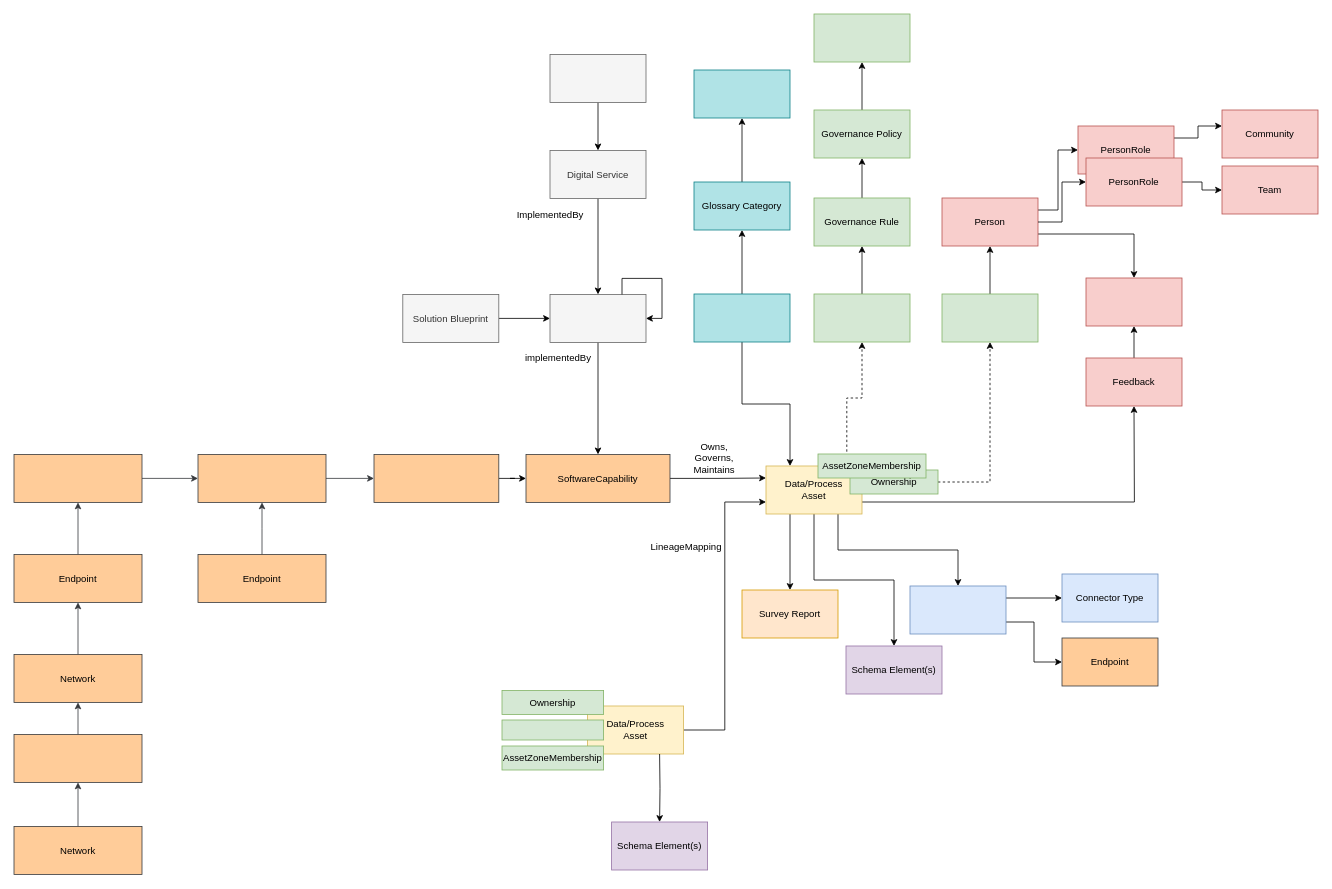
Some shapes in this 1332 by 889 pixel diagram are drawn without their labels. Here are the shapes that lost their labels. From the top down, the centre of each, then its label:
At point (861, 37): "Business Driver".
At point (597, 78): "Business Capability".
At point (741, 93): "Glossary".
At point (597, 318): "Solution Component".
At point (741, 317): "Glossary Term".
At point (861, 317): "Governance Zone".
At point (989, 317): "Governance Role (PersonRole)".
At point (1133, 301): "UserIdentity".
At point (77, 478): "Host".
At point (261, 478): "Software Server Platform".
At point (436, 478): "SoftwareServer".
At point (957, 609): "Connection".
At point (552, 729): "AssetOrigin".
At point (77, 758): "NetworkGateway".
